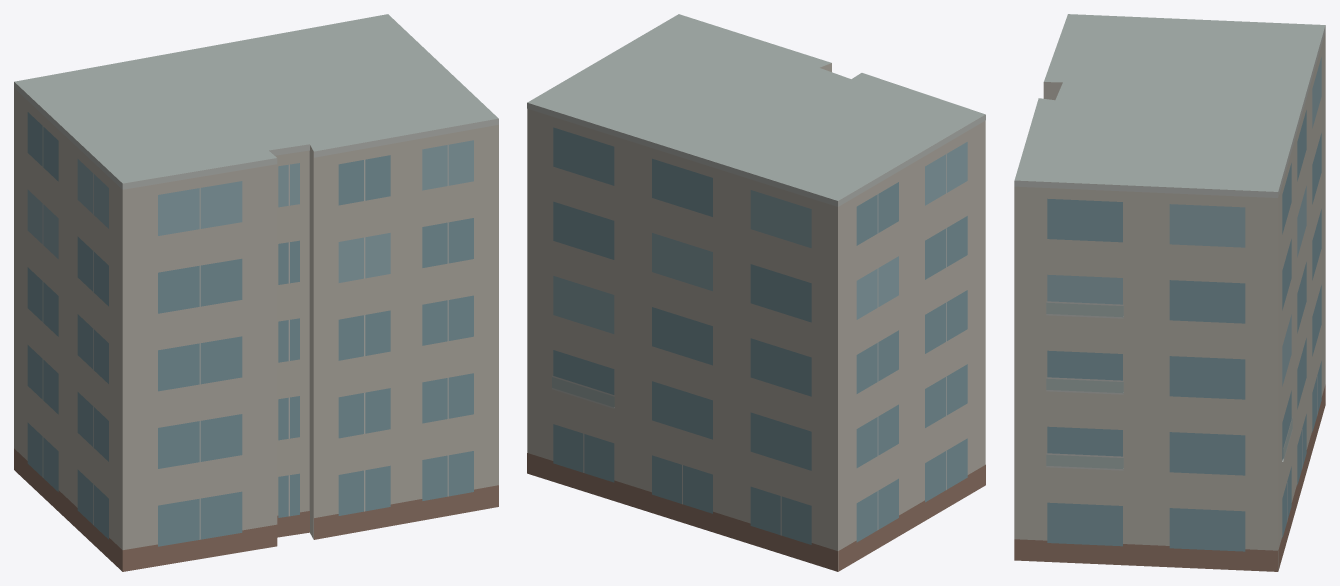
The model's file is survey-upis-32964666.glb.
The picture shows the model from 3 angles, left to right: view 1: azimuth 30°, elevation 25°; view 2: azimuth 150°, elevation 25°; view 3: azimuth 270°, elevation 25°; orthographic projection. The views are drawn at different scales.
Parts seen in each view (by area): view 1: survey-upis-32964666.tmp; view 2: survey-upis-32964666.tmp; view 3: survey-upis-32964666.tmp.
Boxes of the visible parts, left/top/right/bottom form: survey-upis-32964666.tmp: left=14, top=14, right=498, bottom=571; survey-upis-32964666.tmp: left=527, top=14, right=985, bottom=571; survey-upis-32964666.tmp: left=1014, top=14, right=1325, bottom=571.
Bounding box in the file's own units: 15.33 × 15.25 × 11.33.
